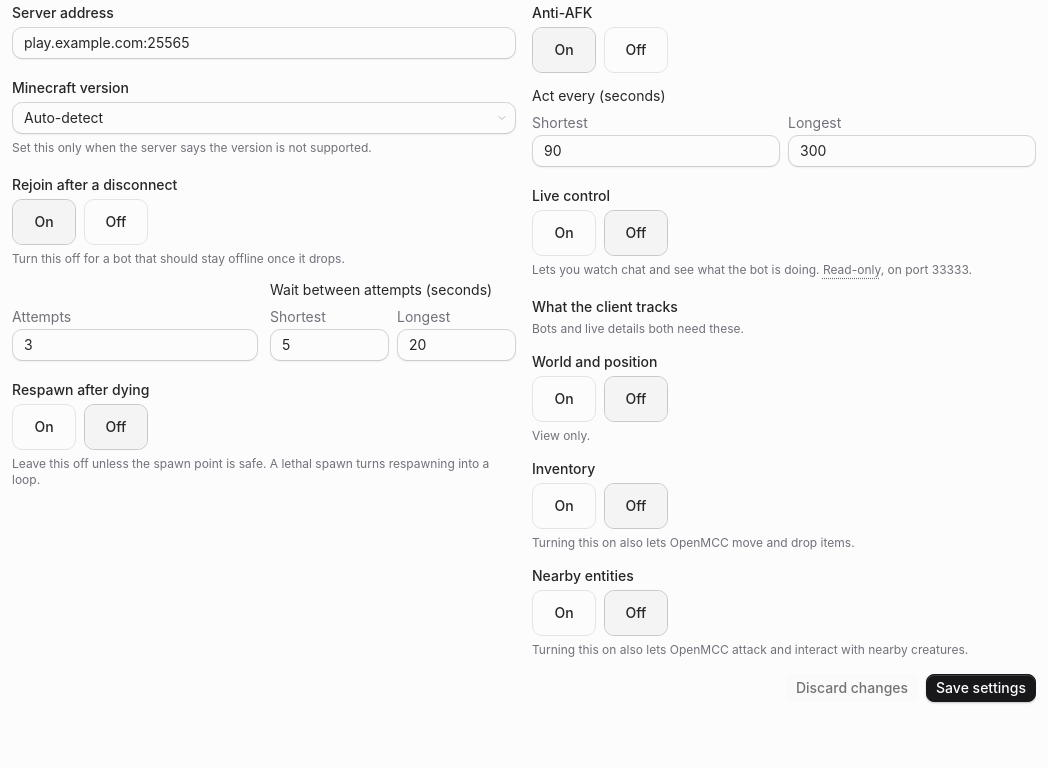
Test case: ★ what a save that lost the race tells the operator › ★ says the bot is busy instead, and leaves the operator's typing on screen
Replace the text in the field labelled "Server address" with "mine.example.com" at point(264, 43), box top-left (13, 28), bottom-right (515, 58)
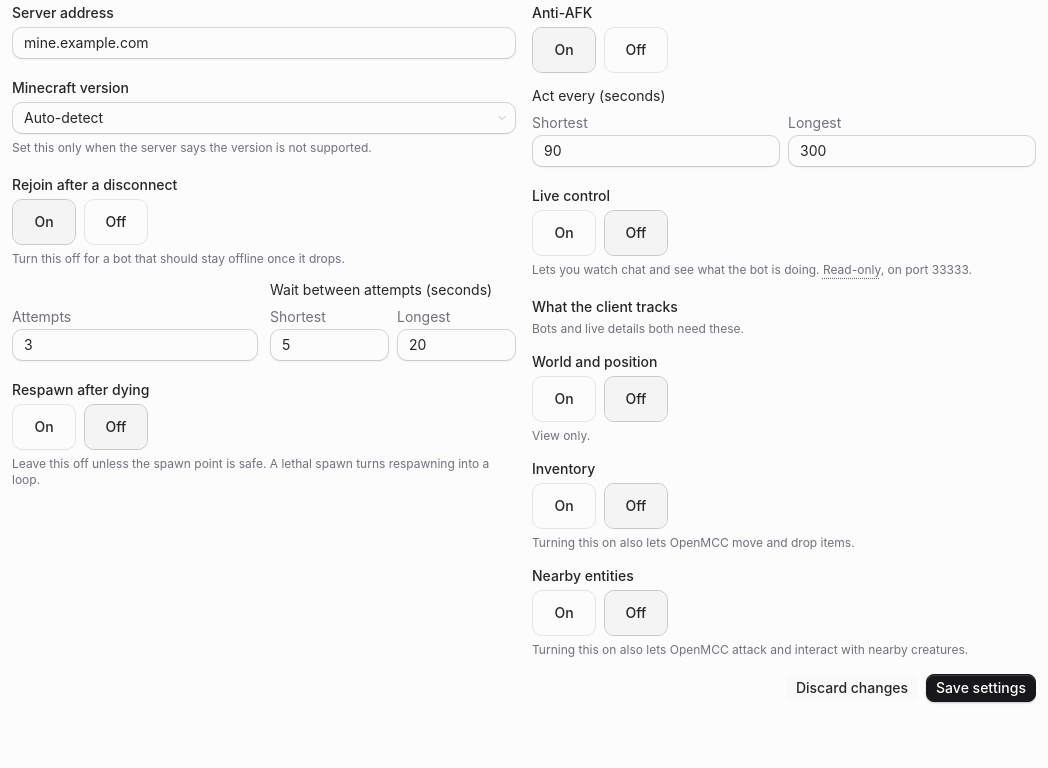
Click the button "Save settings" at point(981, 688), box top-left (926, 674), bottom-right (1036, 702)
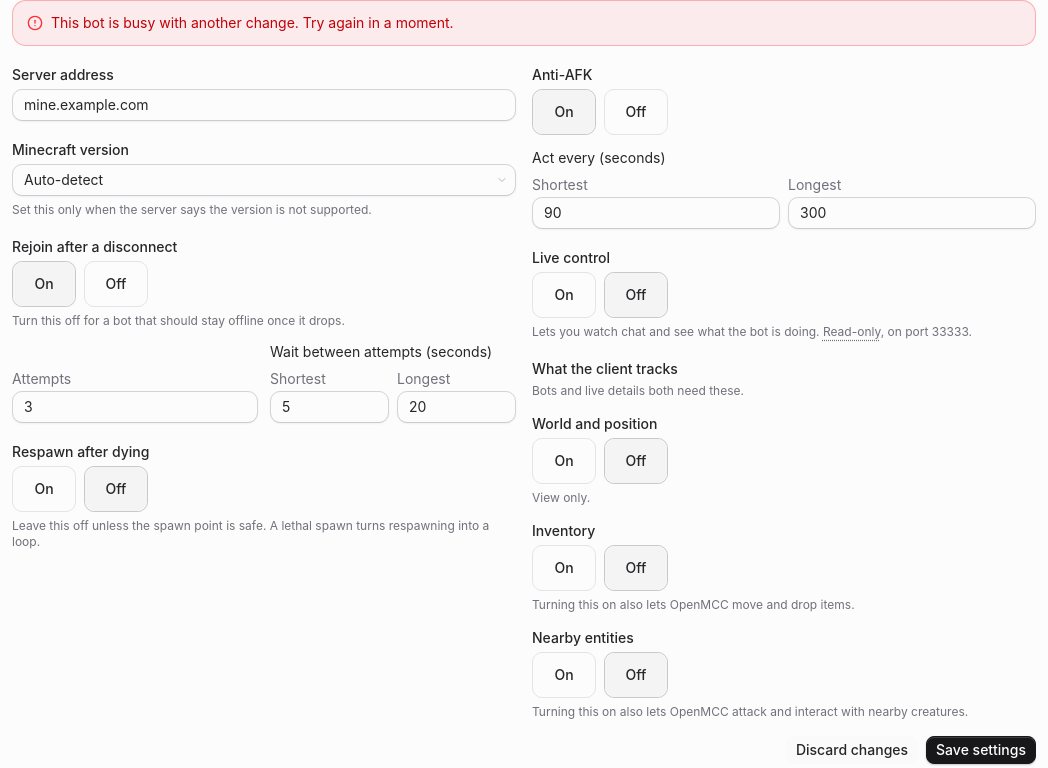
Check: the text "This bot is busy with another change. Try again in a moment." is shown, box top-left (51, 14), bottom-right (454, 31)
